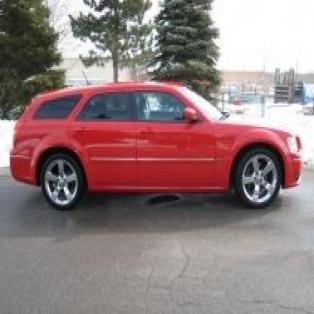Auto: (8, 82, 302, 214)
